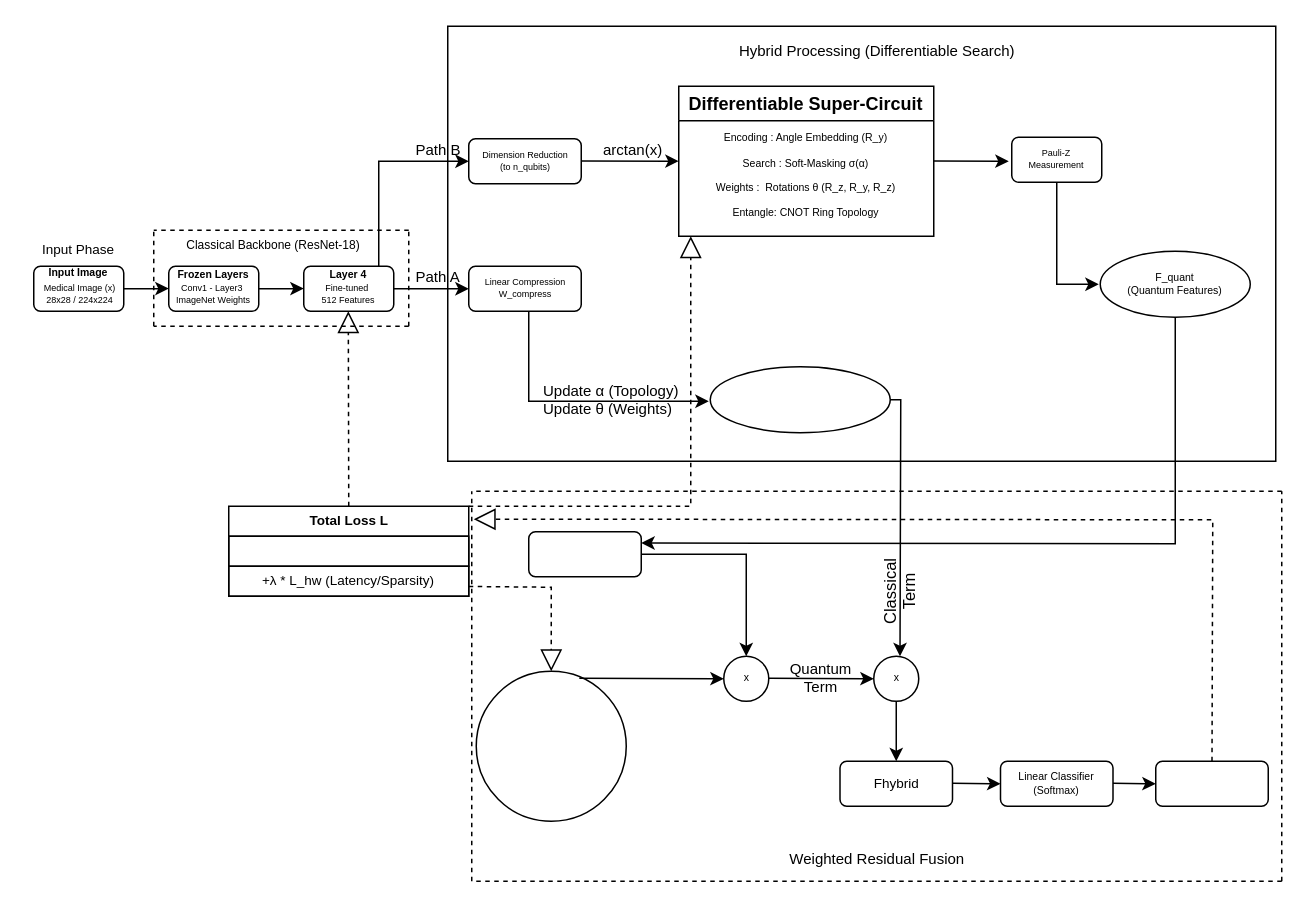
The diagram is 1310 pixels wide and 909 high, and some of its shapes have lost their labels. The shapes that lost their labels are listed below. From the top down, each one's centre as x and y in pixels, then its label:
At (799,399): "F_class (Classical Features)".
At (348,550): "L_CE (Accuracy)".
At (584,553): "Projection W_q".
At (550,745): "β (Learnable Scalar)".
At (1211,783): "Diagnosis (Prediction)".
